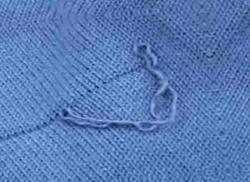snag: (45, 97, 97, 133)
